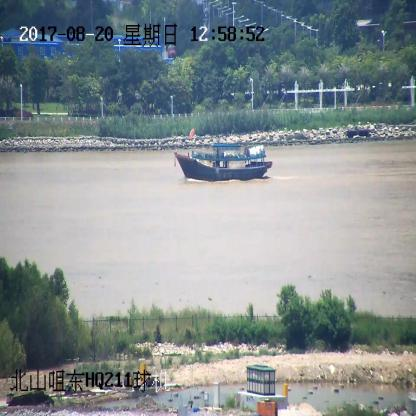Fishing Boat: (174, 143, 272, 181)
